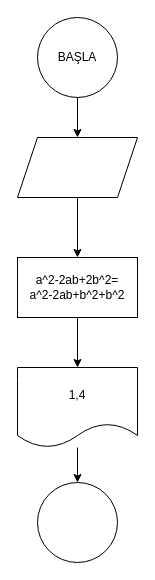
This 155x580 diagram has some shape labels left out. Here are the shapes that lost their labels. From the top down, the box of each, then its label:
(16, 136, 138, 198): kenar uzunlukları= a v b için a^2-2ab+2b^2
(36, 482, 118, 562): DUR
